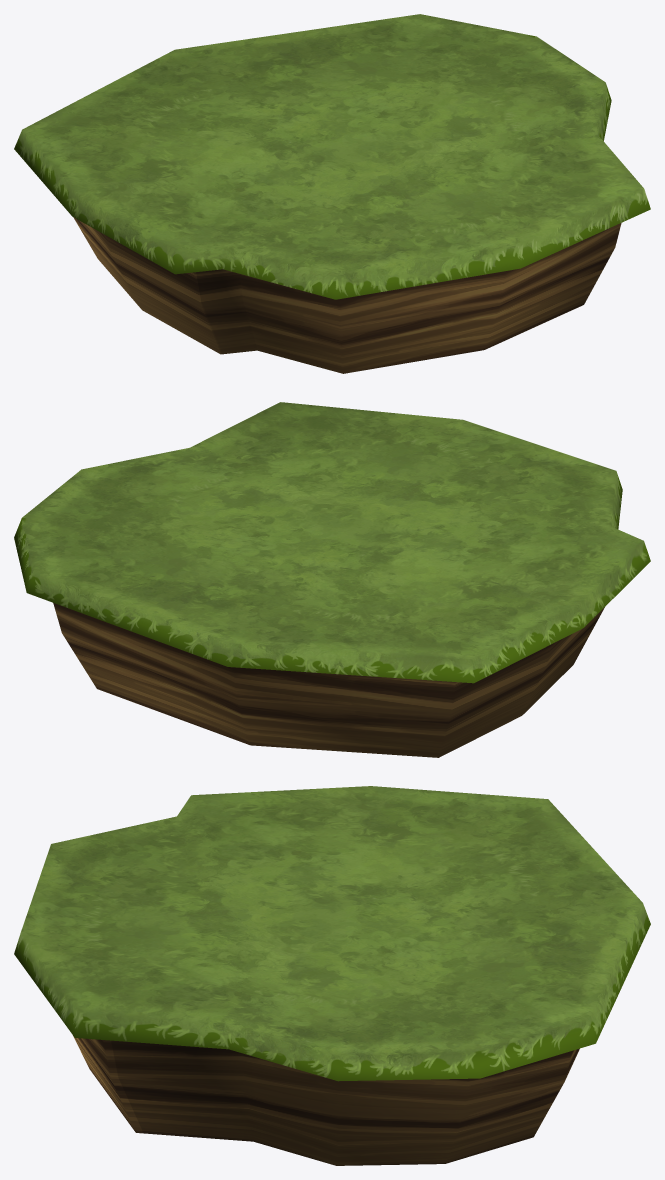
The model's file is forest_ground_01.fbx.
3 views of the same model, one above another, from view 1: azimuth 30°, elevation 25°; view 2: azimuth 150°, elevation 25°; view 3: azimuth 270°, elevation 25° (orthographic). The views are drawn at different scales.
Parts seen in each view (by area): view 1: forest_ground:Mesh; view 2: forest_ground:Mesh; view 3: forest_ground:Mesh.
Part boxes in pixels (bbox=[...]): forest_ground:Mesh: bbox=[14, 14, 650, 373]; forest_ground:Mesh: bbox=[14, 402, 650, 757]; forest_ground:Mesh: bbox=[14, 786, 650, 1165].
Bounding box in the file's own units: 17.73 × 4.1 × 17.25.
